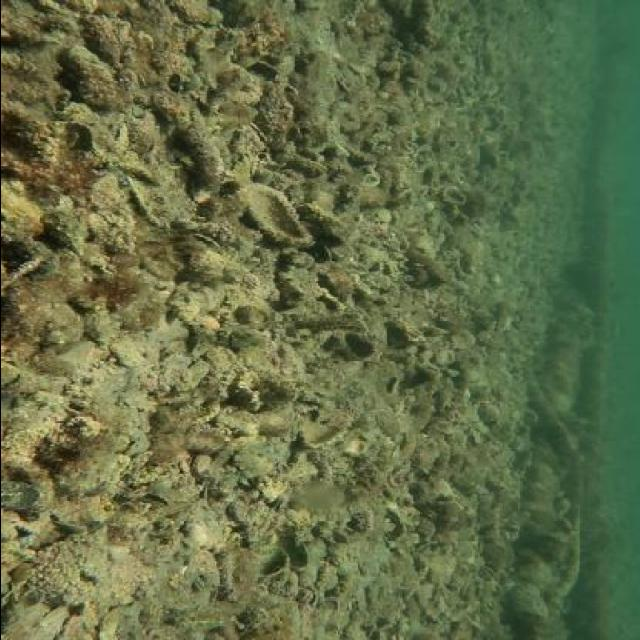Guttu: (290, 316, 360, 332)
